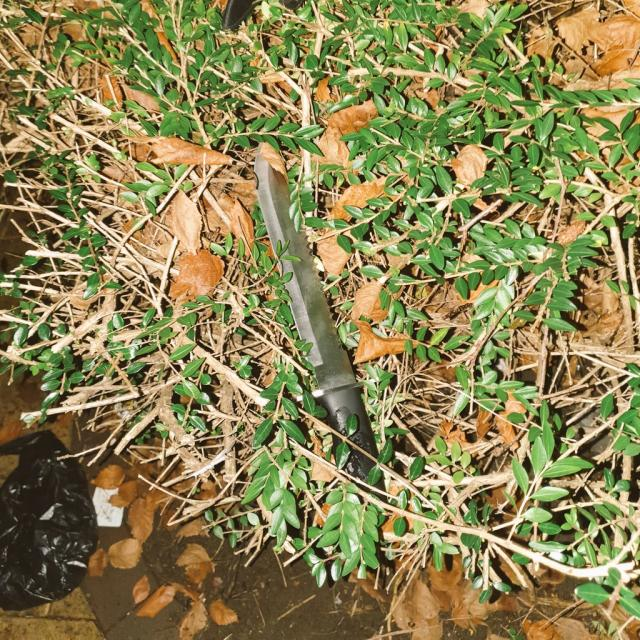Sharp-Object: (252, 140, 390, 512)
